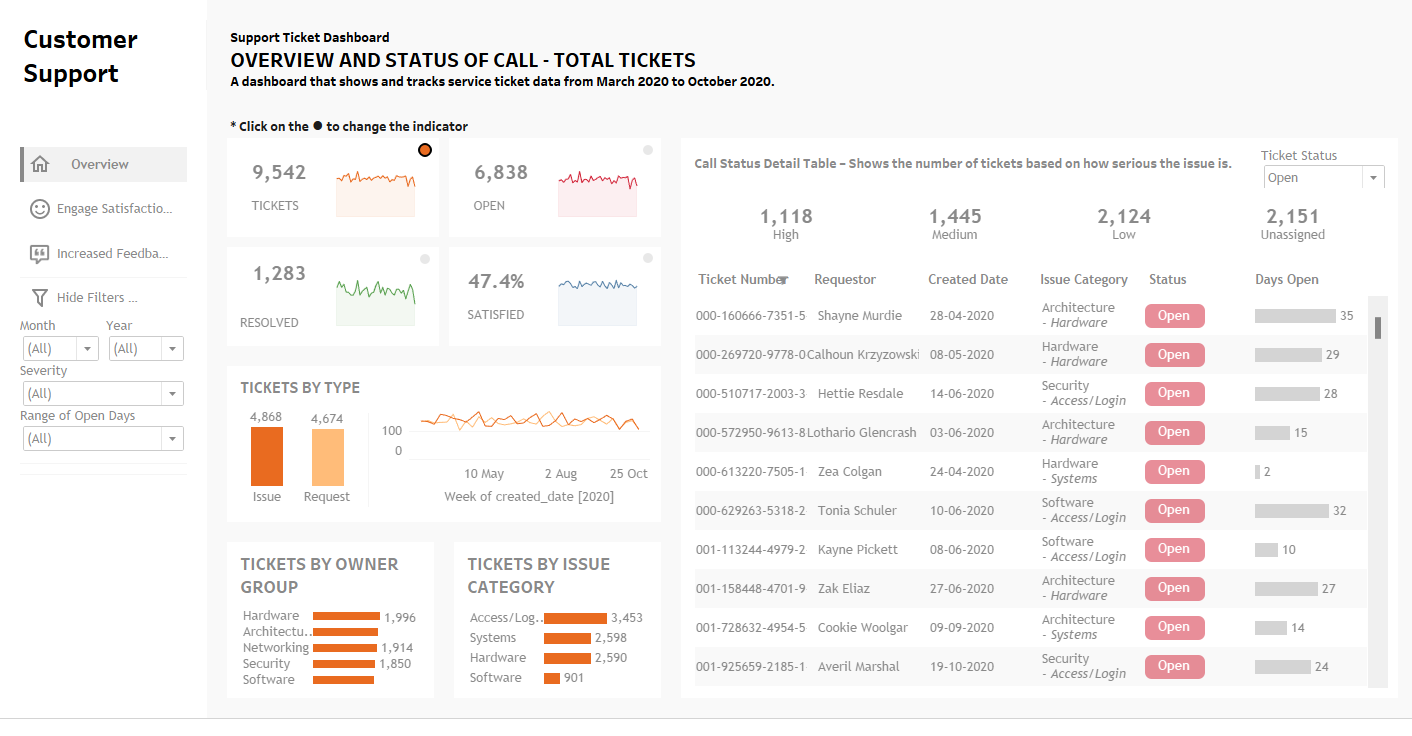

What the dashboard file says about the page in this screenshot:
{"tool":"tableau","page":{"name":"Overview - Light","canvas":[1420,720],"ordinal":2},"visuals":[{"type":"text","box":[1,1,206,110]},{"type":"blank","box":[207,1,1,110]},{"type":"text","box":[208,1,1211,118]},{"type":"text","box":[970,87,265,60]},{"type":"text","box":[228,109,261,30]},{"type":"blank","box":[1,111,207,32]},{"type":"worksheet","title":"Overview Light - Total Tickets","mark":"Square","box":[228,139,85,99]},{"type":"worksheet","title":"Overview Light - Tickets by Week","mark":"Automatic","rows":["Help Desk.csv_86853465DEC54FD19AB014C59E053DA2","Help Desk.csv_86853465DEC54FD19AB014C59E053DA2"],"cols":["created_date"],"box":[313,139,127,99]},{"type":"worksheet","title":"Overview Light - Open Tickets","mark":"Square","box":[450,139,85,99]},{"type":"blank","box":[452,139,95,97]},{"type":"worksheet","title":"Overview Light - Open Tickets by Week","mark":"Automatic","rows":["Help Desk.csv_86853465DEC54FD19AB014C59E053DA2","Help Desk.csv_86853465DEC54FD19AB014C59E053DA2"],"cols":["created_date"],"box":[535,139,127,99]},{"type":"text","box":[682,139,570,50]},{"type":"filter","title":"Overview Light - Table Detail of Tickets","param":"[federated.0cysz861ktjxcq1fd9xv01acxm97].[ticket status (grupo)]","box":[1252,139,147,50]},{"type":"blank","box":[230,140,95,97]},{"type":"worksheet","title":"Overview Light - Parameter Total Tickets","mark":"Circle","box":[415,141,21,20]},{"type":"worksheet","title":"Overview Light - Parameter Open Tickets","mark":"Circle","box":[638,141,21,20]},{"type":"blank","box":[970,147,265,7]},{"type":"blank","box":[21,148,4,35]},{"type":"image","param":"Image/Home.png","box":[25,148,30,35]},{"type":"text","box":[55,148,133,35]},{"type":"text","box":[970,154,265,310]},{"type":"blank","box":[688,190,703,73]},{"type":"blank","box":[21,193,4,35]},{"type":"image","param":"Image/Engage.png","box":[25,193,30,35]},{"type":"dashboard-object","box":[55,193,123,35]},{"type":"blank","box":[178,193,10,35]},{"type":"worksheet","title":"Overview Light - Numbers of Serverity","mark":"Automatic","cols":["severity"],"box":[692,204,697,51]},{"type":"blank","box":[21,238,4,35]},{"type":"image","param":"Image/Feedback.png","box":[25,238,30,35]},{"type":"dashboard-object","box":[55,238,123,35]},{"type":"blank","box":[178,238,10,35]},{"type":"worksheet","title":"Overview Light - Resolved Tickets","mark":"Square","box":[228,248,85,99]},{"type":"worksheet","title":"Overview Light - Resolved Tickets by Week","mark":"Automatic","rows":["Help Desk.csv_86853465DEC54FD19AB014C59E053DA2","Help Desk.csv_86853465DEC54FD19AB014C59E053DA2"],"cols":["created_date"],"box":[313,248,127,99]},{"type":"worksheet","title":"Overview Light - % Satisfaction","mark":"Square","box":[450,248,85,99]},{"type":"worksheet","title":"Overview Light - Satisfied Tickets by Week","mark":"Automatic","rows":["Calculation_719731557468495874","Calculation_719731557468495874"],"cols":["created_date"],"box":[535,248,127,99]},{"type":"blank","box":[229,249,95,97]},{"type":"worksheet","title":"Overview Light - Parameter Satisfied Tickets","mark":"Circle","box":[638,249,21,20]},{"type":"worksheet","title":"Overview Light - Parameter Resolved Tickets","mark":"Circle","box":[415,250,21,20]},{"type":"blank","box":[451,250,95,97]},{"type":"text","box":[692,265,116,32]},{"type":"text","box":[808,265,114,32]},{"type":"text","box":[922,265,112,32]},{"type":"text","box":[1034,265,109,32]},{"type":"text","box":[1143,265,106,32]},{"type":"text","box":[1249,265,140,32]},{"type":"dashboard-object","box":[778,275,12,12]},{"type":"blank","box":[1,278,207,1]},{"type":"blank","box":[21,284,4,30]},{"type":"image","param":"Image/Filter Menu.png","box":[25,284,30,30]},{"type":"dashboard-object","box":[55,284,88,30]},{"type":"blank","box":[143,284,45,30]},{"type":"worksheet","title":"Overview Light - Table Detail of Tickets","mark":"Circle","rows":["ticket_number"],"cols":["Calculation_361413912478396419","Calculation_361413912480407562","Calculation_361413912478396419","Calculation_361413912478396419","Calculation_361413912478396419","days_open"],"box":[682,297,717,402]},{"type":"text","box":[692,297,121,32]},{"type":"filter","title":"Overview Light - Table Detail of Tickets","param":"[federated.0cysz861ktjxcq1fd9xv01acxm97].[none:ticket_number:nk]","box":[813,297,164,32]},{"type":"blank","box":[977,297,412,32]},{"type":"filter","title":"Overview Light - Tickets by Type","param":"[federated.0cysz861ktjxcq1fd9xv01acxm97].[none:Filter Year (cópia)_3909687863732","box":[21,319,84,45]},{"type":"filter","title":"Overview Light - Tickets by Type","param":"[federated.0cysz861ktjxcq1fd9xv01acxm97].[none:Calculation_390968786373120002:ok","box":[105,319,83,45]},{"type":"filter","title":"Overview Light - Tickets by Type","param":"[federated.0cysz861ktjxcq1fd9xv01acxm97].[none:severity:nk]","box":[21,364,167,45]},{"type":"text","box":[228,367,434,32]},{"type":"worksheet","title":"Overview Light - Tickets by Type","mark":"Automatic","rows":["Calculation_260645871150813190"],"cols":["ticket_type"],"box":[228,399,141,124]},{"type":"blank","box":[369,399,1,124]},{"type":"worksheet","title":"Overview Light - Tickets by Type and Week","mark":"Line","rows":["Calculation_260645871150813190"],"cols":["created_date"],"box":[370,399,291,124]},{"type":"worksheet","title":"Overview Light - Tickets by Type and Week (Percent)","mark":"Line","rows":["Calculation_260645871150813190"],"cols":["created_date"],"box":[661,399,1,124]},{"type":"filter","title":"Overview Light - Tickets by Type","param":"[federated.0cysz861ktjxcq1fd9xv01acxm97].[none:Calculation_390968786374774788:nk","box":[21,409,167,45]},{"type":"blank","box":[1,464,207,6]},{"type":"blank","box":[1,470,207,11]},{"type":"blank","box":[1,481,207,238]},{"type":"text","box":[228,543,207,56]},{"type":"text","box":[455,543,207,56]},{"type":"worksheet","title":"Overview Light - Tickets by Owner Group","mark":"Automatic","rows":["owner_group"],"cols":["Calculation_260645871150813190"],"box":[228,599,207,100]},{"type":"worksheet","title":"Overview Light - Tickets by Issue Category","mark":"Automatic","rows":["issue_category"],"cols":["Calculation_260645871150813190"],"box":[455,599,207,100]}]}

Visuals, with their boxes in screenshot pixels (x1, y1, x2, y2), scaled from the page's 1420x720 canvas onto the 1412x736 screenshot:
text: locate(1, 1, 206, 113)
blank: locate(206, 1, 207, 113)
text: locate(207, 1, 1411, 122)
text: locate(965, 89, 1228, 150)
text: locate(227, 111, 486, 142)
blank: locate(1, 113, 207, 146)
"Overview Light - Total Tickets" worksheet (Square marks): locate(227, 142, 311, 243)
"Overview Light - Tickets by Week" worksheet: locate(311, 142, 438, 243)
"Overview Light - Open Tickets" worksheet (Square marks): locate(447, 142, 532, 243)
blank: locate(449, 142, 544, 241)
"Overview Light - Open Tickets by Week" worksheet: locate(532, 142, 658, 243)
text: locate(678, 142, 1245, 193)
"Overview Light - Table Detail of Tickets" filter: locate(1245, 142, 1391, 193)
blank: locate(229, 143, 323, 242)
"Overview Light - Parameter Total Tickets" worksheet (Circle marks): locate(413, 144, 434, 165)
"Overview Light - Parameter Open Tickets" worksheet (Circle marks): locate(634, 144, 655, 165)
blank: locate(965, 150, 1228, 157)
blank: locate(21, 151, 25, 187)
image: locate(25, 151, 55, 187)
text: locate(55, 151, 187, 187)
text: locate(965, 157, 1228, 474)
blank: locate(684, 194, 1383, 269)
blank: locate(21, 197, 25, 233)
image: locate(25, 197, 55, 233)
dashboard-object: locate(55, 197, 177, 233)
blank: locate(177, 197, 187, 233)
"Overview Light - Numbers of Serverity" worksheet: locate(688, 209, 1381, 261)
blank: locate(21, 243, 25, 279)
image: locate(25, 243, 55, 279)
dashboard-object: locate(55, 243, 177, 279)
blank: locate(177, 243, 187, 279)
"Overview Light - Resolved Tickets" worksheet (Square marks): locate(227, 254, 311, 355)
"Overview Light - Resolved Tickets by Week" worksheet: locate(311, 254, 438, 355)
"Overview Light - % Satisfaction" worksheet (Square marks): locate(447, 254, 532, 355)
"Overview Light - Satisfied Tickets by Week" worksheet: locate(532, 254, 658, 355)
blank: locate(228, 255, 322, 354)
"Overview Light - Parameter Satisfied Tickets" worksheet (Circle marks): locate(634, 255, 655, 275)
"Overview Light - Parameter Resolved Tickets" worksheet (Circle marks): locate(413, 256, 434, 276)
blank: locate(448, 256, 543, 355)
text: locate(688, 271, 803, 304)
text: locate(803, 271, 917, 304)
text: locate(917, 271, 1028, 304)
text: locate(1028, 271, 1137, 304)
text: locate(1137, 271, 1242, 304)
text: locate(1242, 271, 1381, 304)
dashboard-object: locate(774, 281, 786, 293)
blank: locate(1, 284, 207, 285)
blank: locate(21, 290, 25, 321)
image: locate(25, 290, 55, 321)
dashboard-object: locate(55, 290, 142, 321)
blank: locate(142, 290, 187, 321)
"Overview Light - Table Detail of Tickets" worksheet (Circle marks): locate(678, 304, 1391, 715)
text: locate(688, 304, 808, 336)
"Overview Light - Table Detail of Tickets" filter: locate(808, 304, 971, 336)
blank: locate(971, 304, 1381, 336)
"Overview Light - Tickets by Type" filter: locate(21, 326, 104, 372)
"Overview Light - Tickets by Type" filter: locate(104, 326, 187, 372)
"Overview Light - Tickets by Type" filter: locate(21, 372, 187, 418)
text: locate(227, 375, 658, 408)
"Overview Light - Tickets by Type" worksheet: locate(227, 408, 367, 535)
blank: locate(367, 408, 368, 535)
"Overview Light - Tickets by Type and Week" worksheet (Line marks): locate(368, 408, 657, 535)
"Overview Light - Tickets by Type and Week (Percent)" worksheet (Line marks): locate(657, 408, 658, 535)
"Overview Light - Tickets by Type" filter: locate(21, 418, 187, 464)
blank: locate(1, 474, 207, 480)
blank: locate(1, 480, 207, 492)
blank: locate(1, 492, 207, 735)
text: locate(227, 555, 433, 612)
text: locate(452, 555, 658, 612)
"Overview Light - Tickets by Owner Group" worksheet: locate(227, 612, 433, 715)
"Overview Light - Tickets by Issue Category" worksheet: locate(452, 612, 658, 715)
